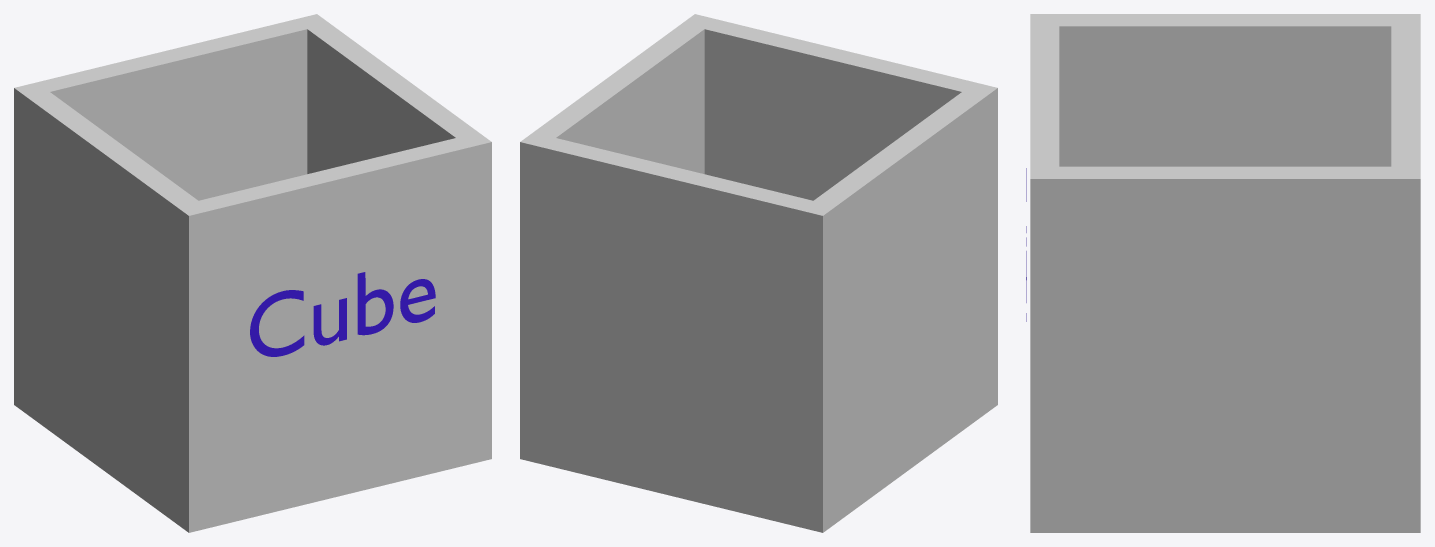
3 renders of one model, left to right at view 1: azimuth 30°, elevation 25°; view 2: azimuth 150°, elevation 25°; view 3: azimuth 270°, elevation 25°, orthographic. The views are drawn at different scales.
Visible parts, largest first — view 1: Text; view 2: Text; view 3: Text.
Boxes of the visible parts, box(x1,y1,x2,y2) form: Text: box(14, 14, 491, 532); Text: box(520, 14, 997, 532); Text: box(1026, 14, 1420, 532).
Bounding box in the file's own units: 200 × 200 × 202.
